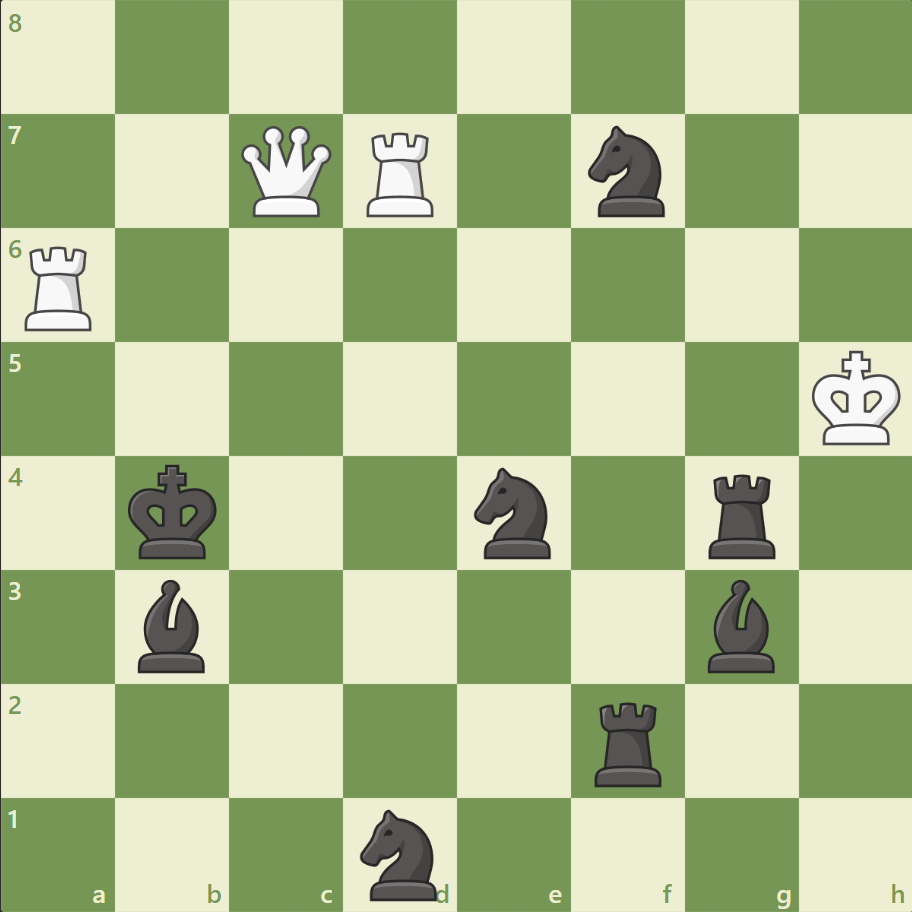K: (806, 344, 906, 452)
Q: (237, 122, 336, 222)
R: (19, 239, 102, 336), (360, 125, 442, 222)
b: (131, 574, 215, 676), (698, 574, 782, 676)
k: (124, 458, 224, 566)
n: (351, 802, 449, 904), (465, 461, 562, 564), (579, 121, 676, 223)
r: (700, 466, 783, 563), (587, 693, 670, 790)
